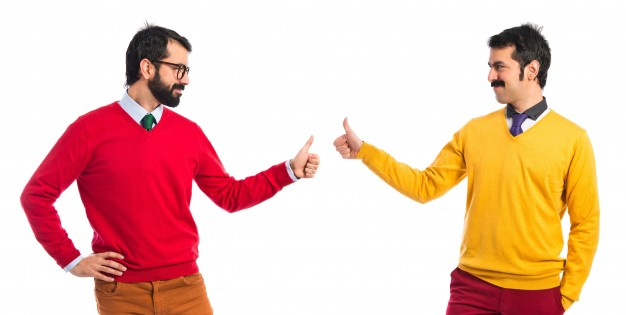thumbsup: (299, 134, 320, 177), (333, 117, 354, 159)
